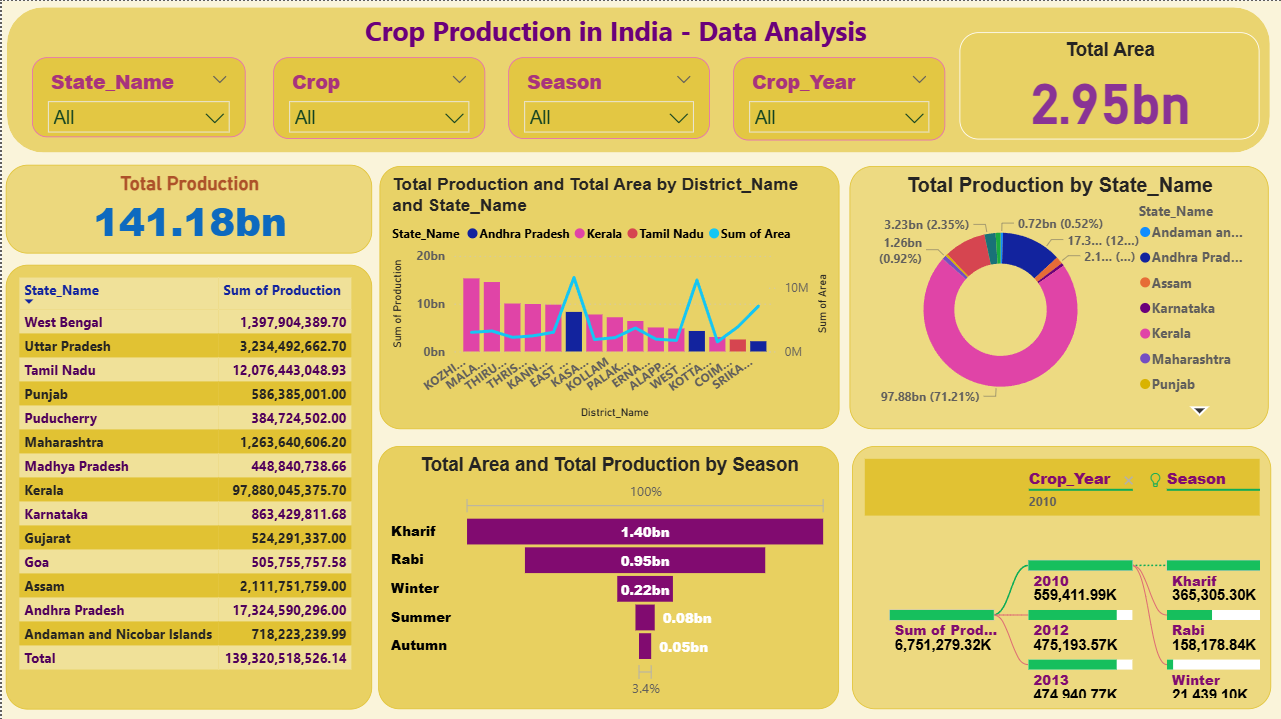

This screenshot's page, from the dashboard's own definition file:
{"tool":"powerbi","page":{"name":"Crop Production-India","canvas":[1280,720],"ordinal":0},"visuals":[{"type":"shape","box":[4.5,6.1,1262.8,145.4],"z":0},{"type":"lineStackedColumnComboChart","title":"Total Production and Total Area by District_Name and State_Name","fields":{"Category":["crop_production.District_Name"],"Y":["Sum(crop_production.Production)"],"Series":["crop_production.State_Name"],"Y2":["Sum(crop_production.Area)"]},"box":[377,165,460.3,263.5],"z":1000},{"type":"tableEx","fields":{"Values":["crop_production.State_Name","Sum(crop_production.Production)"]},"box":[4.4,263.3,366.5,445.1],"z":2000},{"type":"slicer","fields":{"Values":["crop_production.State_Name"]},"box":[30.3,56,213.5,80.3],"z":3000},{"type":"card","title":"Total Production","fields":{"Values":["Sum(crop_production.Production)"]},"box":[4.4,164.4,366.5,88.7],"z":4000},{"type":"slicer","fields":{"Values":["crop_production.Season"]},"box":[505.7,56,201.4,81.8],"z":5000},{"type":"slicer","fields":{"Values":["crop_production.Crop"]},"box":[271,56,212,81.8],"z":6000},{"type":"donutChart","title":"Total Production by State_Name","fields":{"Series":["crop_production.State_Name"],"Y":["Sum(crop_production.Production)"]},"box":[848,165,419.4,263.5],"z":7000},{"type":"card","title":"Total Area","fields":{"Values":["Sum(crop_production.Area)"]},"box":[957,31.8,299.8,107.5],"z":8000},{"type":"slicer","fields":{"Values":["crop_production.Crop_Year"]},"box":[731.4,56,212,83.3],"z":9000},{"type":"funnel","title":"Total Area and Total Production by Season","fields":{"Category":["crop_production.Season"],"Y":["Sum(crop_production.Area)"]},"box":[376.7,445.1,461.1,263.3],"z":10000},{"type":"decompositionTreeVisual","title":"Total Production by Crop_Year and Season","fields":{"ExplainBy":["crop_production.Crop_Year","crop_production.Season"],"Analyze":["Sum(crop_production.Production)"]},"box":[849.5,445.1,418.9,263.3],"z":11000},{"type":"textbox","box":[154.6,5.7,917.5,51.5],"z":12000}]}

Visuals, with their boxes in screenshot pixels (x1, y1, x2, y2), scaled from the page's 1280x720 canvas onto the 1281x719 screenshot:
shape: [left=5, top=6, right=1268, bottom=151]
"Total Production and Total Area by District_Name and State_Name" lineStackedColumnComboChart: [left=377, top=165, right=838, bottom=428]
tableEx - crop_production.State_Name x Sum(crop_production.Production): [left=4, top=263, right=371, bottom=707]
slicer - crop_production.State_Name: [left=30, top=56, right=244, bottom=136]
"Total Production" card: [left=4, top=164, right=371, bottom=253]
slicer - crop_production.Season: [left=506, top=56, right=708, bottom=138]
slicer - crop_production.Crop: [left=271, top=56, right=483, bottom=138]
"Total Production by State_Name" donutChart: [left=849, top=165, right=1268, bottom=428]
"Total Area" card: [left=958, top=32, right=1258, bottom=139]
slicer - crop_production.Crop_Year: [left=732, top=56, right=944, bottom=139]
"Total Area and Total Production by Season" funnel: [left=377, top=444, right=838, bottom=707]
"Total Production by Crop_Year and Season" decompositionTreeVisual: [left=850, top=444, right=1269, bottom=707]
textbox: [left=155, top=6, right=1073, bottom=57]
